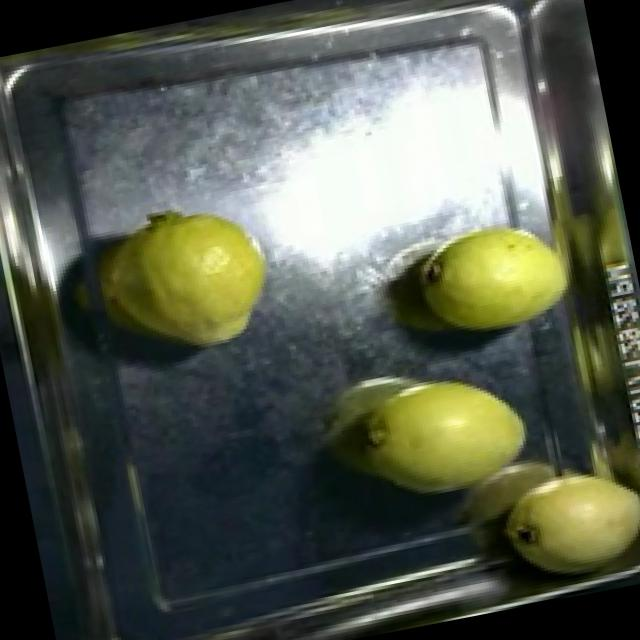Fruit: (83, 188, 291, 374), (344, 345, 554, 519), (397, 198, 584, 352), (482, 432, 640, 606)
